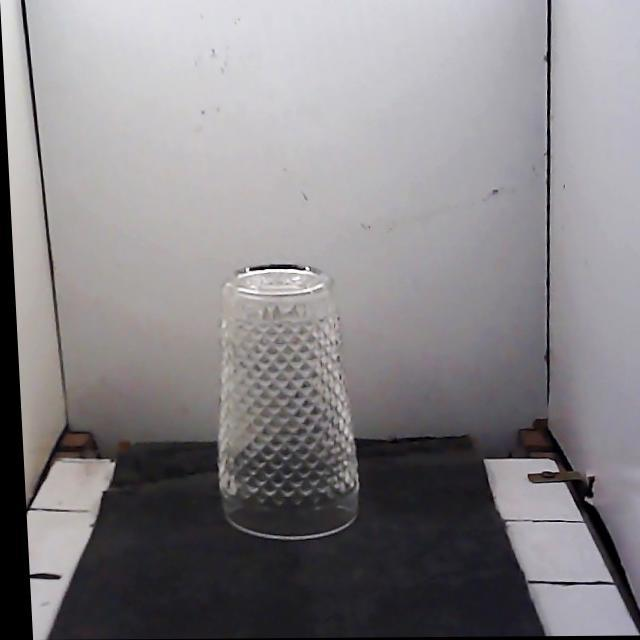vidro: (218, 265, 358, 539)
